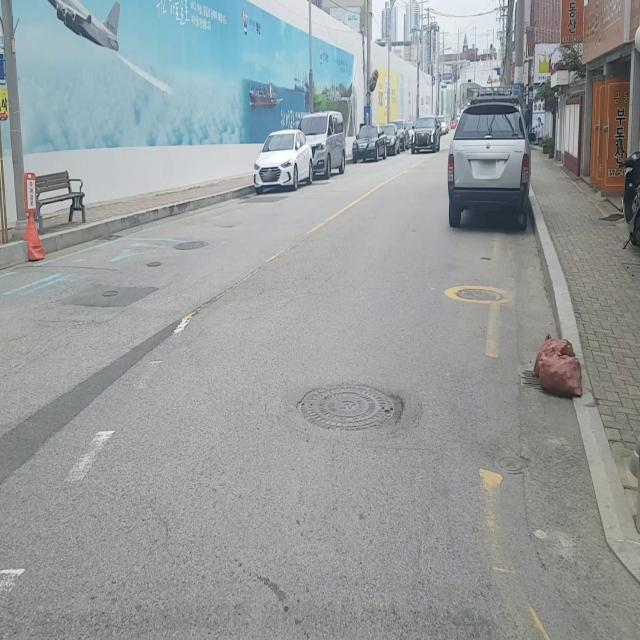Pothole: (294, 380, 406, 435)
